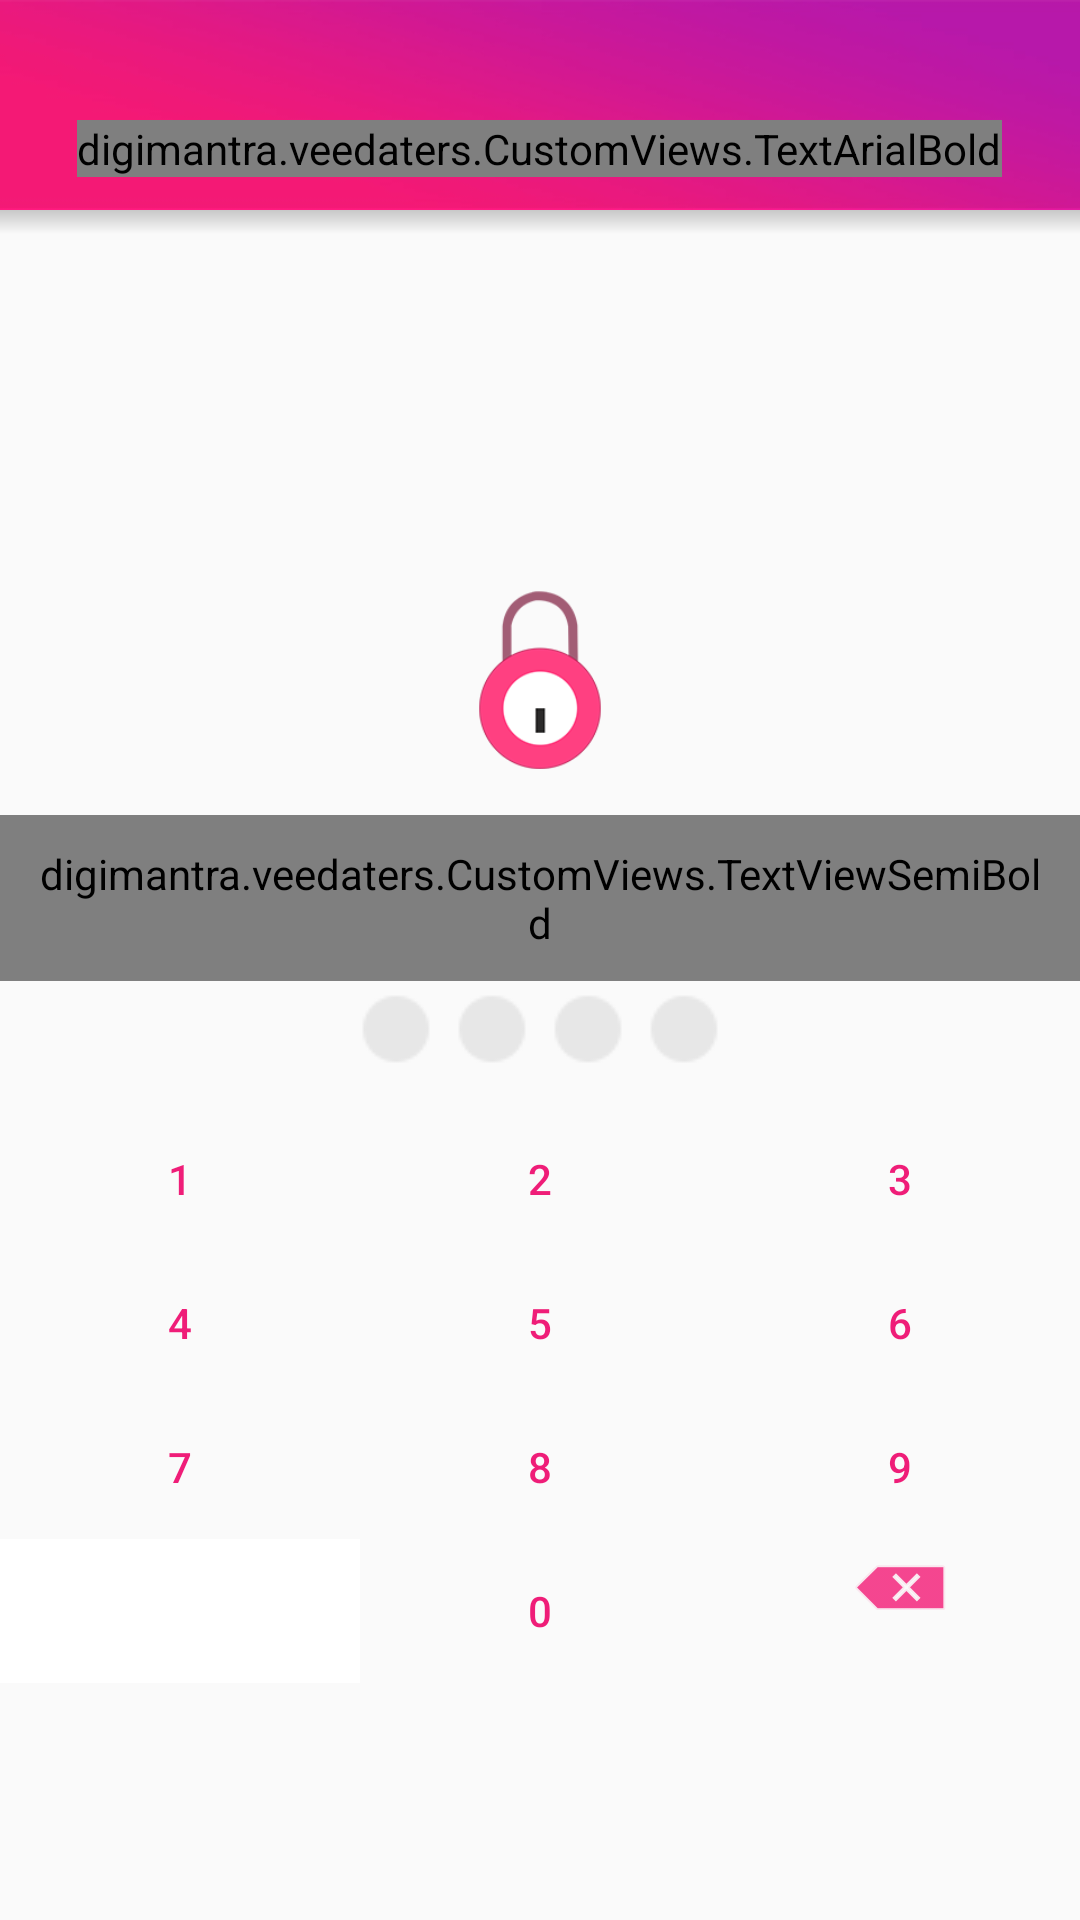

Icon bounding boxes for this 1080×1920 phone screenshot, format (x1, y1, x2, y2):
delete: (857, 1567, 944, 1609)
lock: (479, 591, 601, 769)
